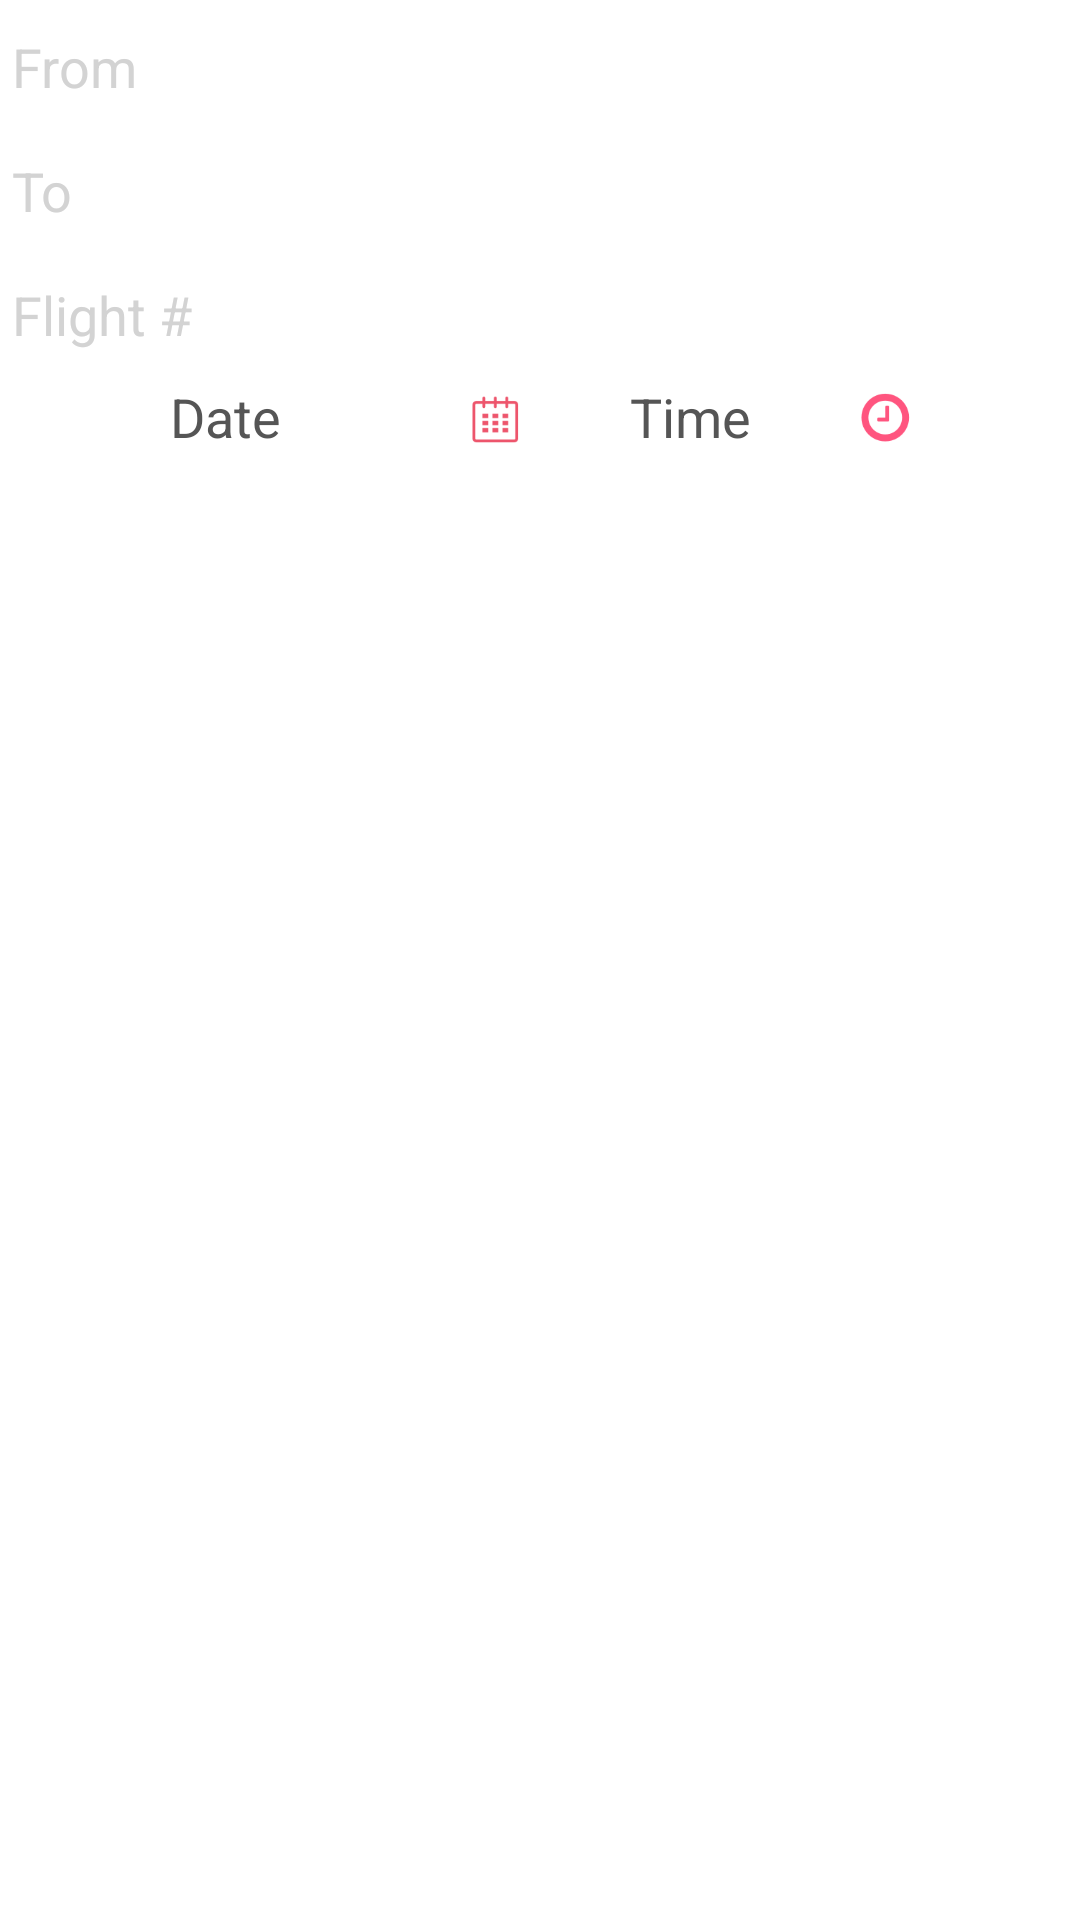

Where to tap for icons on this 1080 × 1920 app screen, as (x=x, y=y):
calendar: (x=495, y=419)
